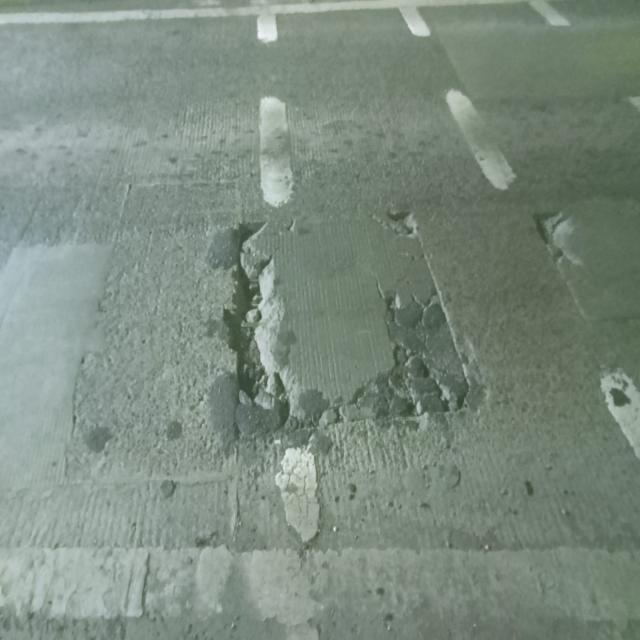Buraco: (218, 218, 298, 435), (268, 427, 330, 554), (528, 207, 587, 269), (382, 206, 424, 240)
